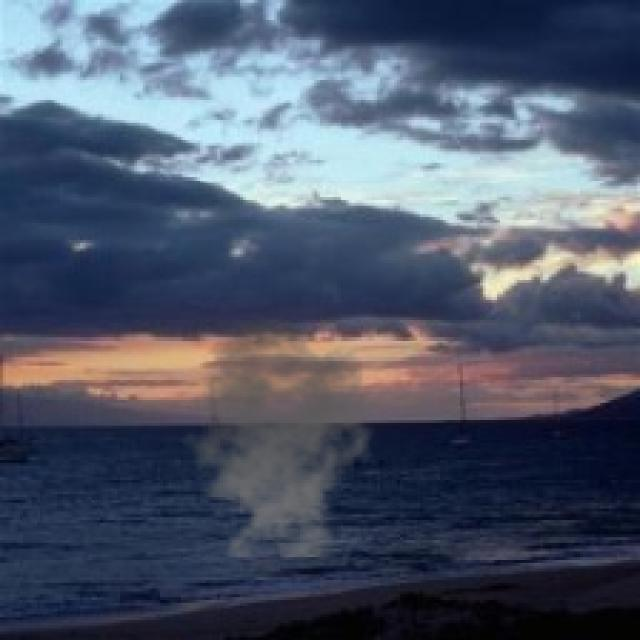Smoke: (168, 314, 382, 557)
